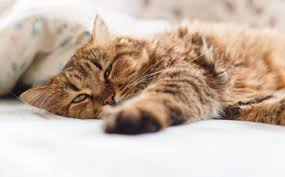Gato: (20, 12, 227, 141)
